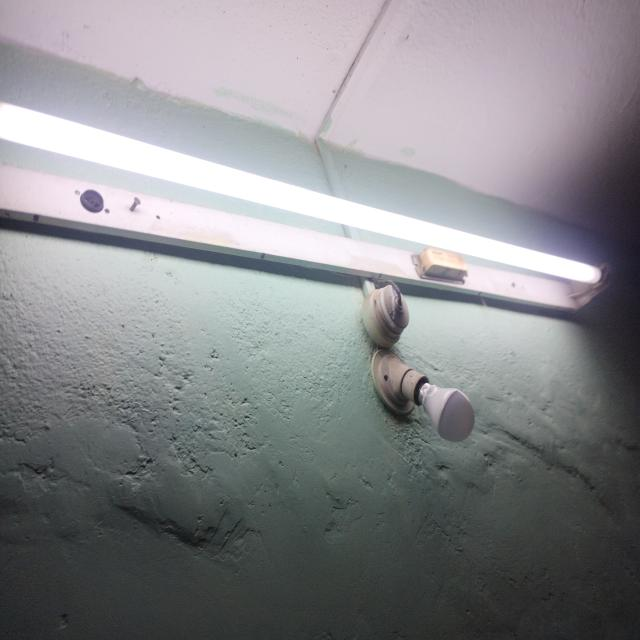tubelight_on: (0, 98, 618, 324)
